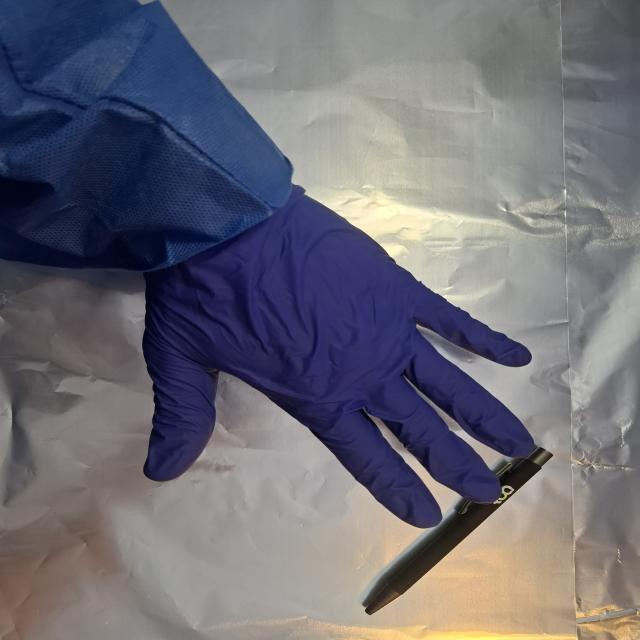glove_on: (139, 184, 539, 530)
